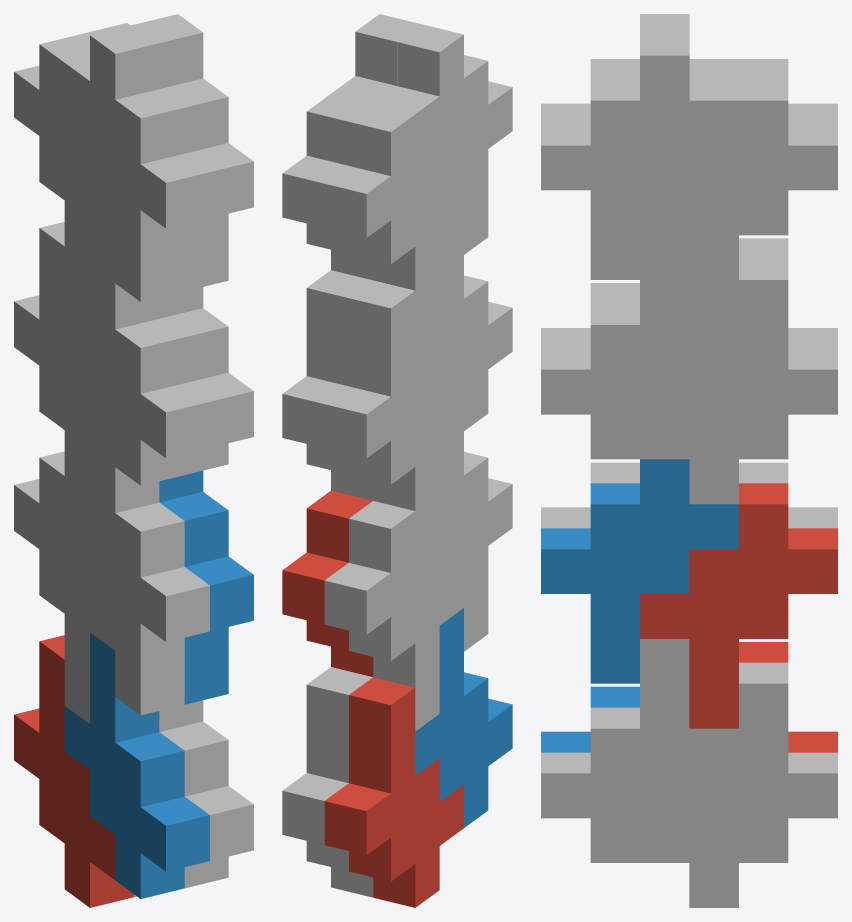
Rendered from tiling.obj.
3 views of the same model, side by side, from view 1: azimuth 30°, elevation 25°; view 2: azimuth 150°, elevation 25°; view 3: azimuth 270°, elevation 25° (orthographic). The views are drawn at different scales.
Parts seen in each view (by area): view 1: copy_2_domain_4, copy_2_domain_2, copy_1_domain_4, copy_1_domain_2, copy_2_domain_8, copy_1_domain_1, copy_2_domain_3, copy_1_domain_3, copy_2_domain_1, copy_2_domain_6, copy_1_domain_6, copy_1_domain_8; view 2: copy_1_domain_1, copy_1_domain_3, copy_2_domain_3, copy_2_domain_1, copy_2_domain_4, copy_1_domain_2, copy_1_domain_4, copy_2_domain_2, copy_1_domain_5, copy_1_domain_7, copy_2_domain_5, copy_2_domain_7 (+1 smaller); view 3: copy_2_domain_8, copy_2_domain_7, copy_1_domain_7, copy_1_domain_6, copy_2_domain_6, copy_1_domain_5, copy_2_domain_5, copy_1_domain_8, copy_2_domain_4, copy_1_domain_2, copy_2_domain_1, copy_2_domain_2 (+4 smaller).
Part boxes in pixels (left/top/right/bottom): copy_2_domain_4: left=64, top=24, right=209, bottom=301; copy_2_domain_2: left=64, top=449, right=209, bottom=715; copy_1_domain_4: left=64, top=219, right=209, bottom=485; copy_1_domain_2: left=64, top=632, right=209, bottom=898; copy_2_domain_8: left=134, top=14, right=253, bottom=291; copy_1_domain_1: left=14, top=635, right=133, bottom=907; copy_2_domain_3: left=14, top=33, right=115, bottom=310; copy_1_domain_3: left=14, top=222, right=115, bottom=494; copy_2_domain_1: left=14, top=451, right=115, bottom=723; copy_2_domain_6: left=159, top=470, right=253, bottom=704; copy_1_domain_6: left=159, top=700, right=253, bottom=888; copy_1_domain_8: left=159, top=287, right=253, bottom=474; copy_1_domain_1: left=324, top=677, right=463, bottom=907; copy_1_domain_3: left=324, top=280, right=463, bottom=510; copy_2_domain_3: left=324, top=104, right=463, bottom=334; copy_2_domain_1: left=324, top=501, right=463, bottom=731; copy_2_domain_4: left=373, top=24, right=512, bottom=254; copy_1_domain_2: left=415, top=608, right=512, bottom=827; copy_1_domain_4: left=415, top=211, right=512, bottom=430; copy_2_domain_2: left=415, top=431, right=512, bottom=651; copy_1_domain_5: left=282, top=667, right=373, bottom=897; copy_1_domain_7: left=282, top=270, right=373, bottom=500; copy_2_domain_5: left=282, top=490, right=373, bottom=676; copy_2_domain_7: left=282, top=93, right=373, bottom=280; copy_2_domain_8: left=541, top=35, right=738, bottom=279; copy_2_domain_7: left=640, top=79, right=837, bottom=324; copy_1_domain_7: left=640, top=259, right=837, bottom=504; copy_1_domain_6: left=541, top=639, right=738, bottom=862; copy_2_domain_6: left=541, top=459, right=738, bottom=683; copy_1_domain_5: left=640, top=662, right=837, bottom=907; copy_2_domain_5: left=640, top=483, right=837, bottom=728; copy_1_domain_8: left=541, top=235, right=738, bottom=459; copy_2_domain_4: left=541, top=14, right=738, bottom=124; copy_1_domain_2: left=541, top=686, right=639, bottom=752; copy_2_domain_1: left=739, top=462, right=837, bottom=528; copy_2_domain_2: left=541, top=462, right=639, bottom=528.
Bounding box in the file's own units: 2 × 19 × 6.
